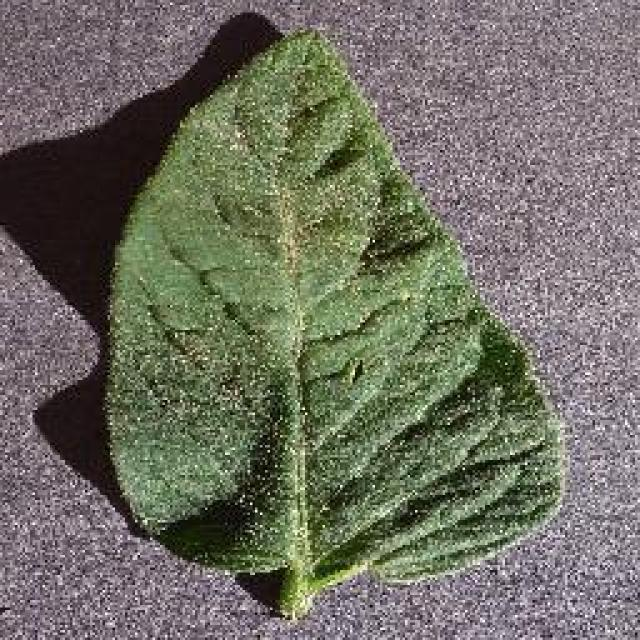Healthy: (82, 10, 578, 638)
